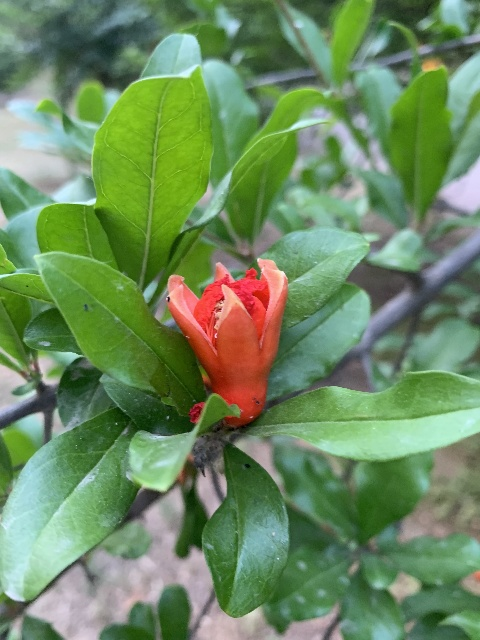flower: (164, 258, 288, 425)
